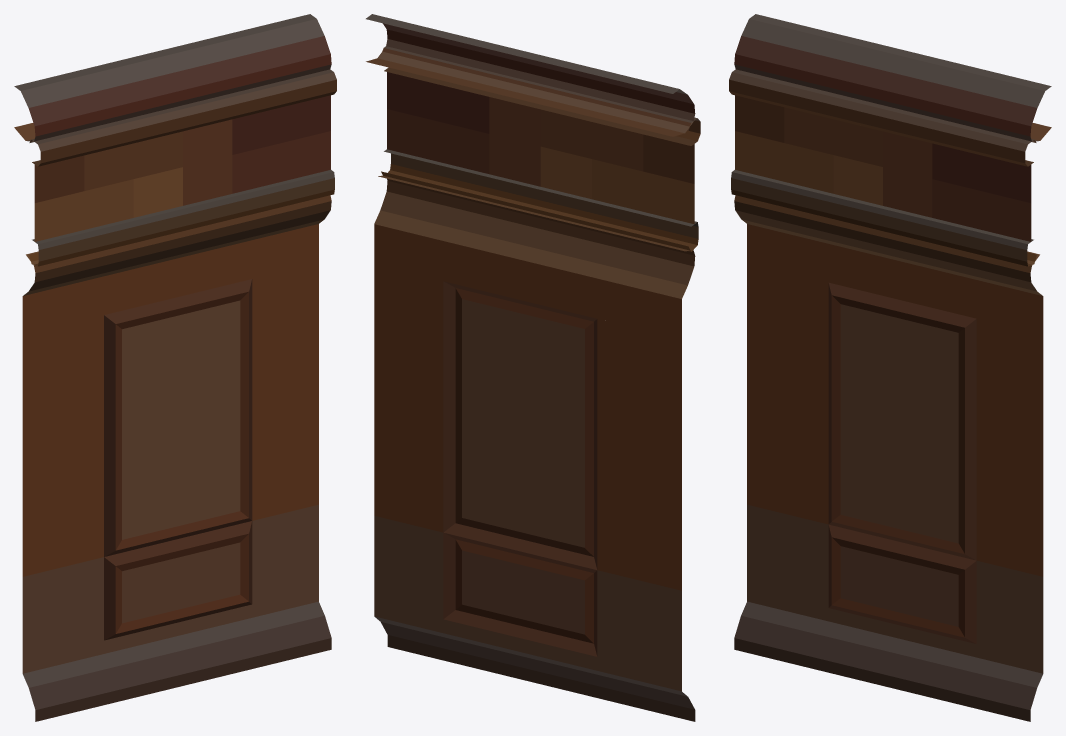
Rendered from Wall_HomeA-PanelB-2m.fbx.
3 views of the same model, side by side, from view 1: azimuth 30°, elevation 25°; view 2: azimuth 150°, elevation 25°; view 3: azimuth 330°, elevation 25° (orthographic). The views are drawn at different scales.
Visible parts, largest first — view 1: Wall_HomeA-PanelB-2m; view 2: Wall_HomeA-PanelB-2m; view 3: Wall_HomeA-PanelB-2m.
Part boxes in pixels (x1,y1,x2,y2): Wall_HomeA-PanelB-2m: (14, 14, 336, 721); Wall_HomeA-PanelB-2m: (366, 14, 700, 721); Wall_HomeA-PanelB-2m: (729, 14, 1051, 721).
Size of the model in its own units: 200 by 400 by 31.15.
